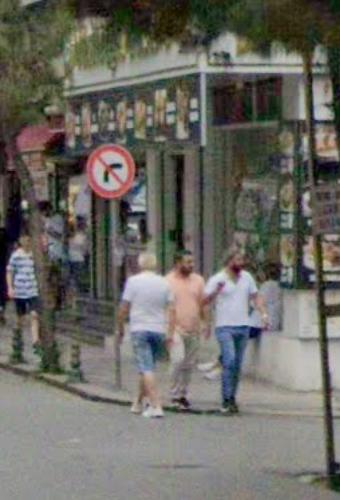rightturnsareforbidden: (87, 148, 136, 197)
